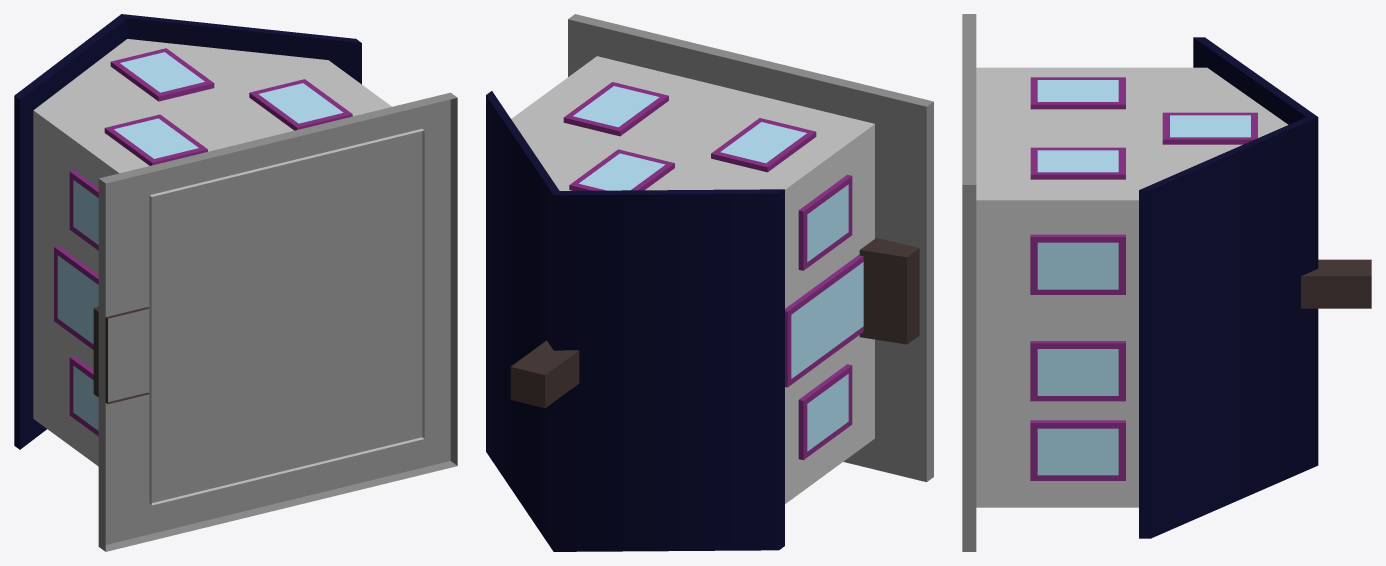
File: 01 small_house.FBX
The picture shows the model from 3 angles, left to right: view 1: azimuth 30°, elevation 25°; view 2: azimuth 150°, elevation 25°; view 3: azimuth 270°, elevation 25°; orthographic projection. The views are drawn at different scales.
Visible parts, largest first — view 1: Box004; view 2: Box004; view 3: Box004.
Part boxes in pixels (x1,y1,x2,y2): Box004: (14,14,457,551); Box004: (486,14,933,551); Box004: (962,14,1371,551).
Bounding box in the file's own units: 1 × 1 × 1.01.
